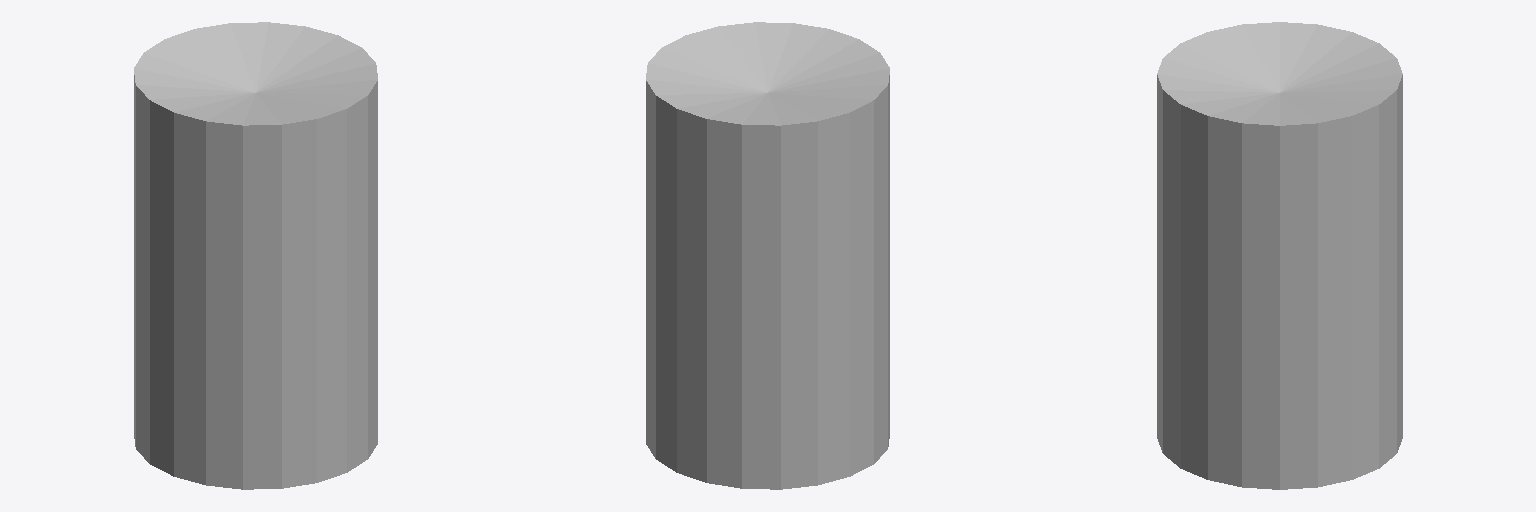
Rendered from canned_food_12.obj.
3 renders of one model, left to right at view 1: azimuth 30°, elevation 25°; view 2: azimuth 150°, elevation 25°; view 3: azimuth 270°, elevation 25°, orthographic.
Parts seen in each view (by area): view 1: canned_food_12:pCylinder2; view 2: canned_food_12:pCylinder2; view 3: canned_food_12:pCylinder2.
Part boxes in pixels (bbox=[...]): canned_food_12:pCylinder2: bbox=[134, 22, 377, 489]; canned_food_12:pCylinder2: bbox=[646, 22, 889, 489]; canned_food_12:pCylinder2: bbox=[1157, 22, 1402, 489].
Bounding box in the file's own units: 0.3517 × 0.5744 × 0.3517.